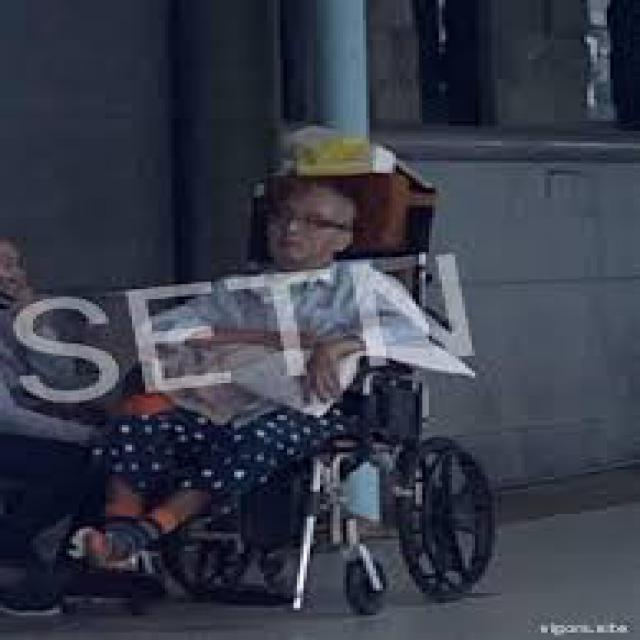wheelchairs: (52, 165, 502, 613)
